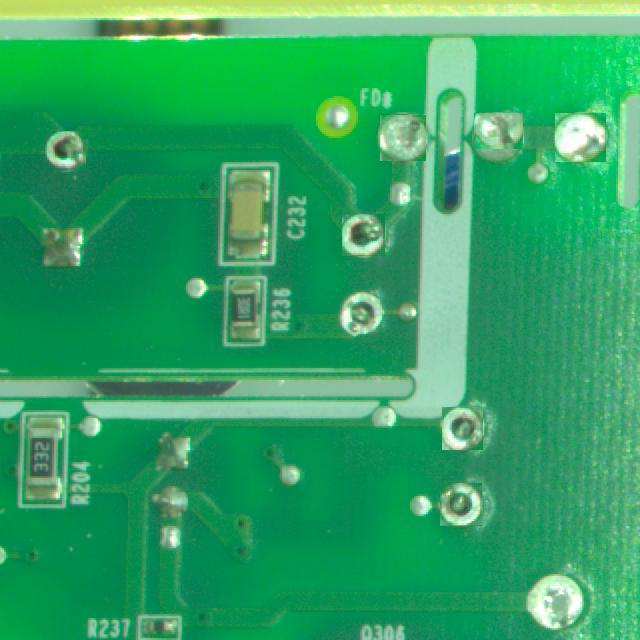oppostie_direction: (554, 112, 606, 162), (379, 114, 426, 161), (442, 407, 483, 450), (342, 215, 385, 256), (440, 484, 482, 524), (475, 114, 523, 147), (45, 131, 85, 170)
